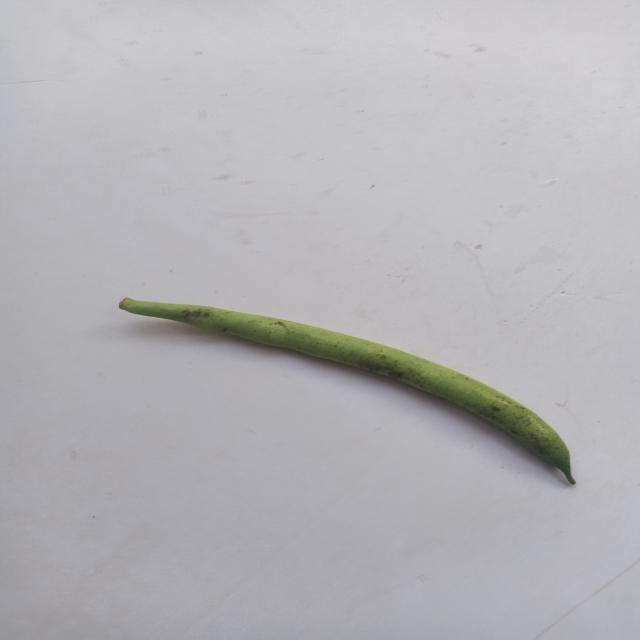Beans: (116, 280, 583, 520)
